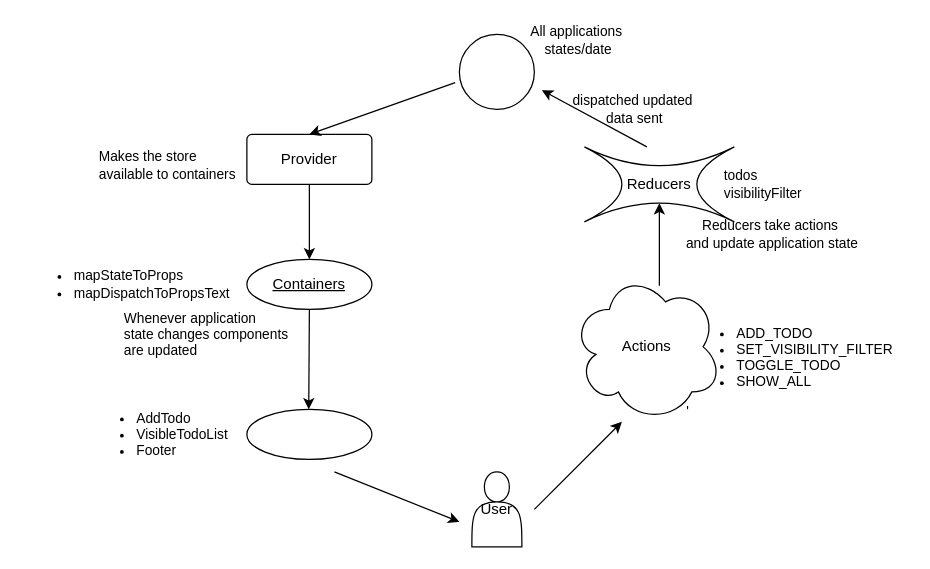
This 930x569 diagram has some shape labels left out. Each missing label, with the centre of its shape:
Components: the point at 309,433
Store: the point at 496,71
